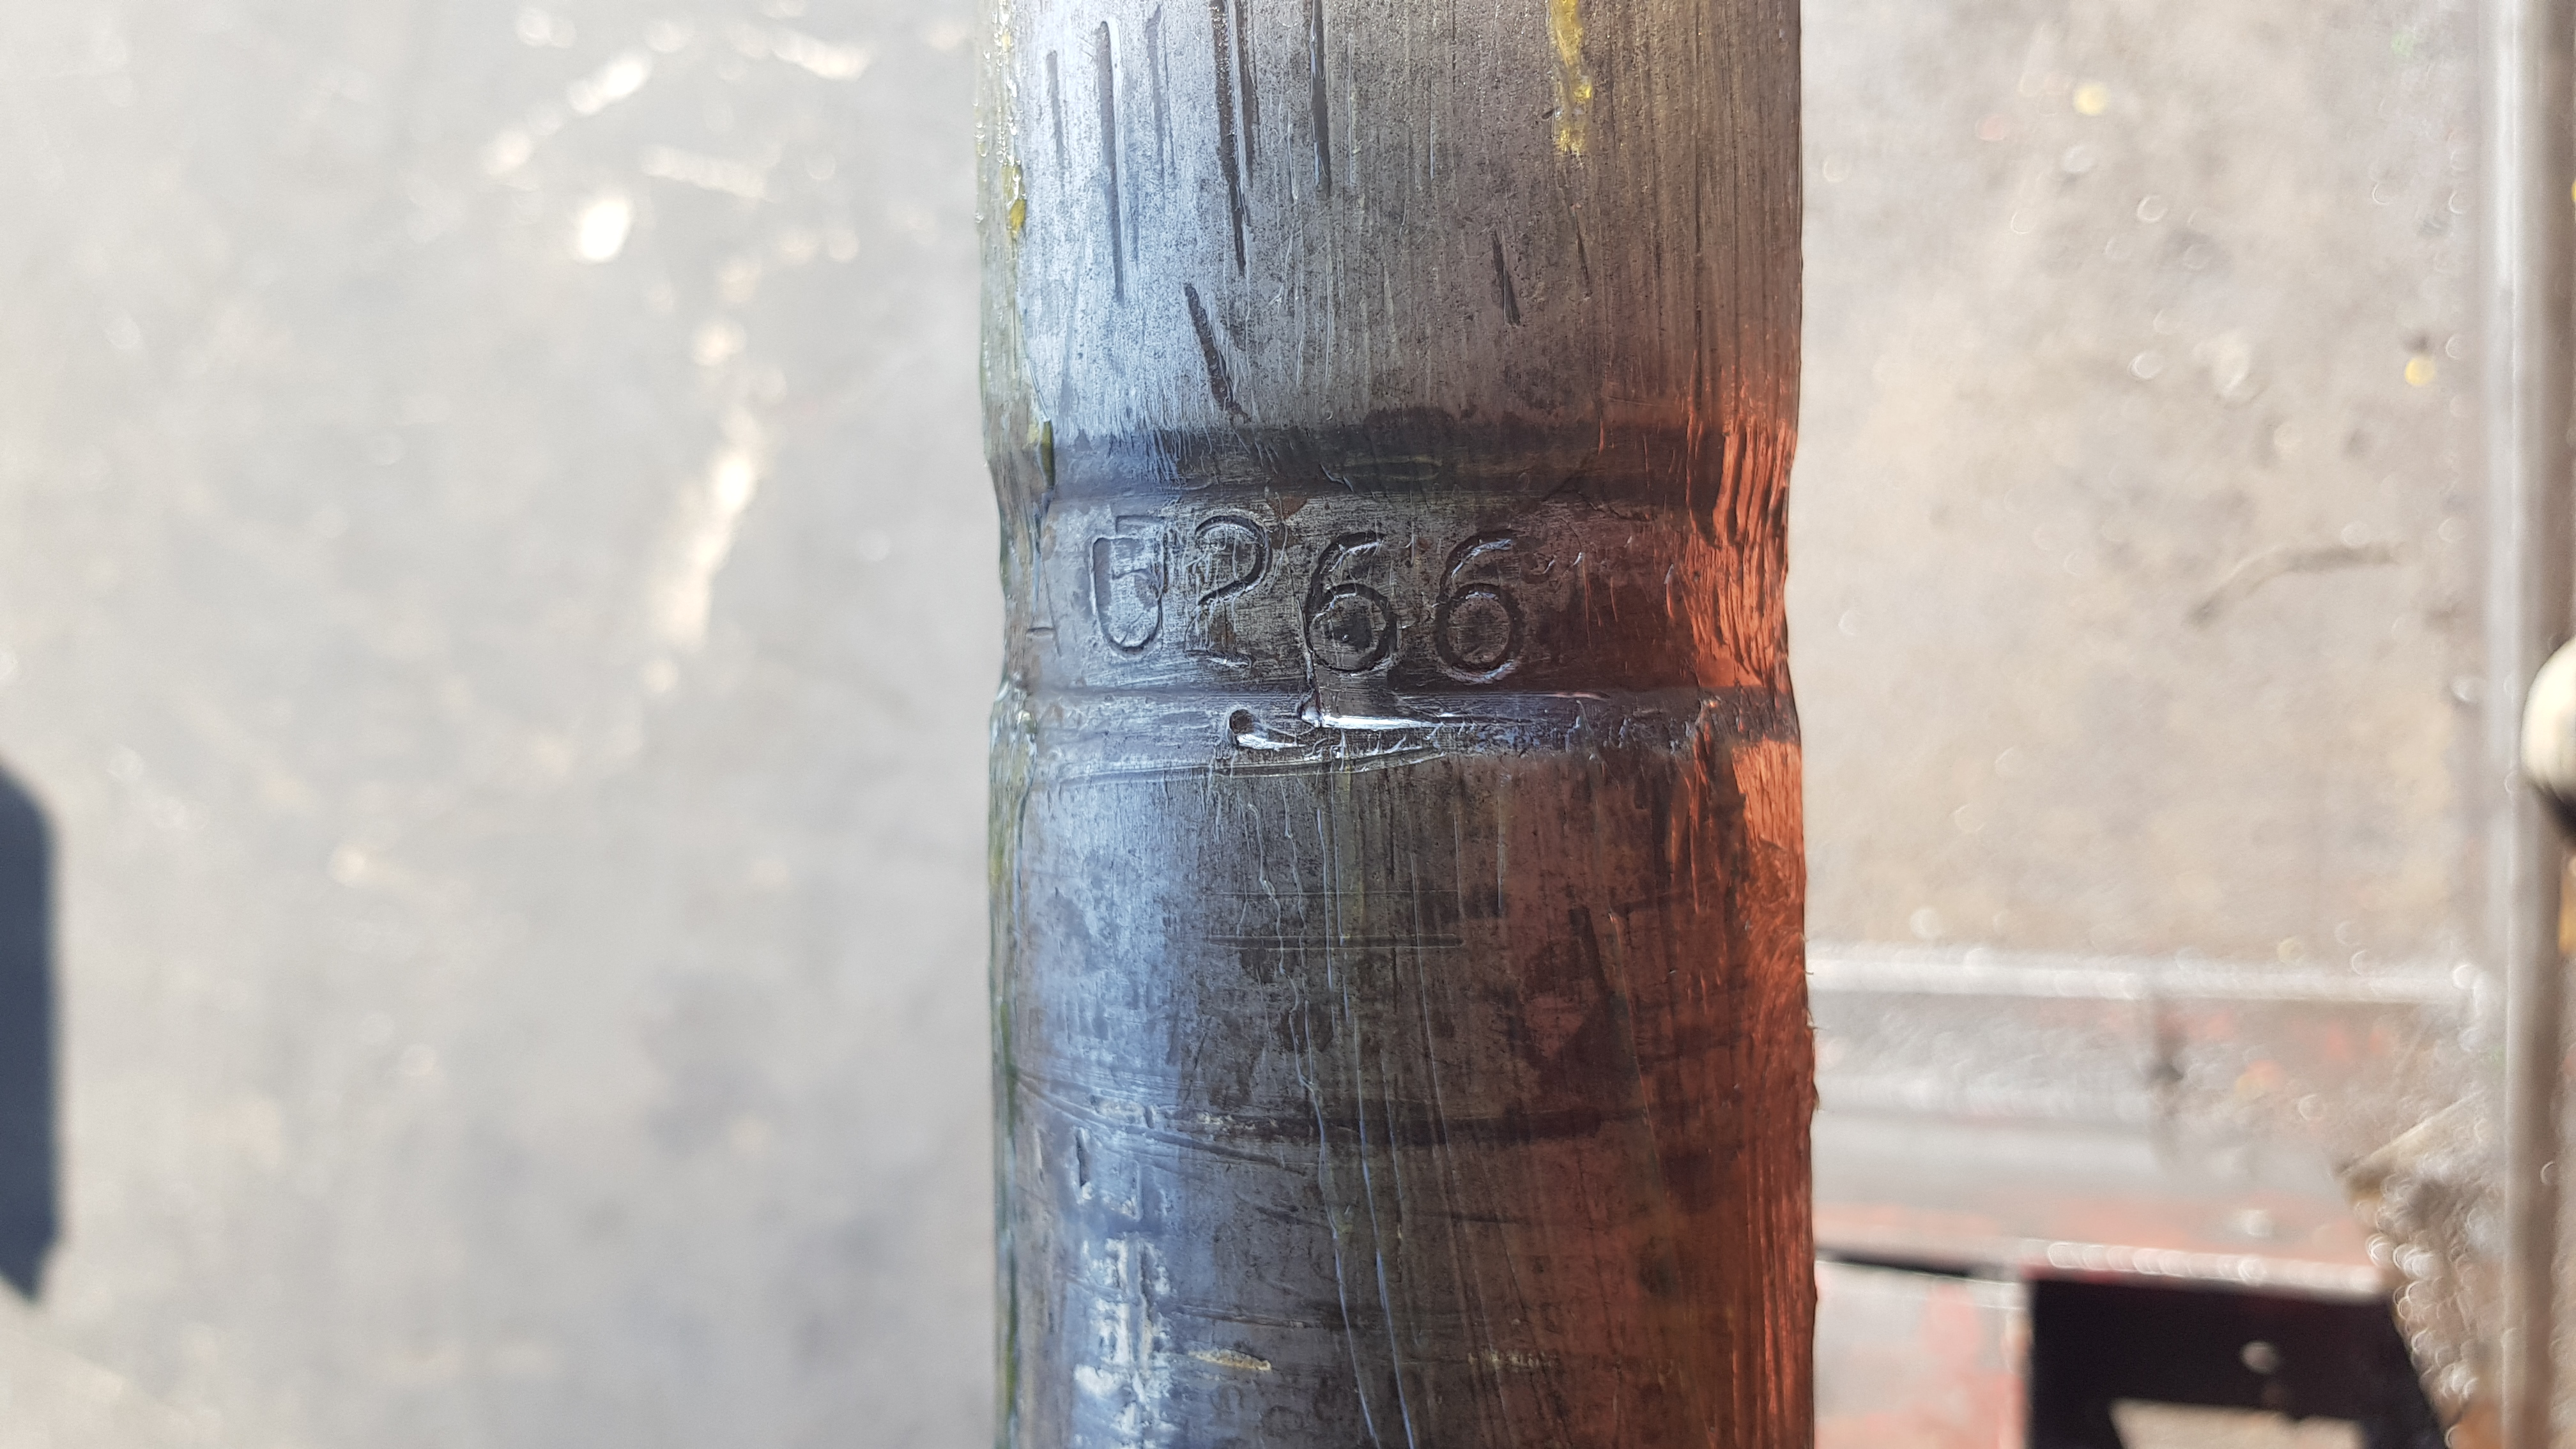character: (1297, 515, 1412, 683), (1433, 513, 1541, 686), (1185, 508, 1277, 663)
